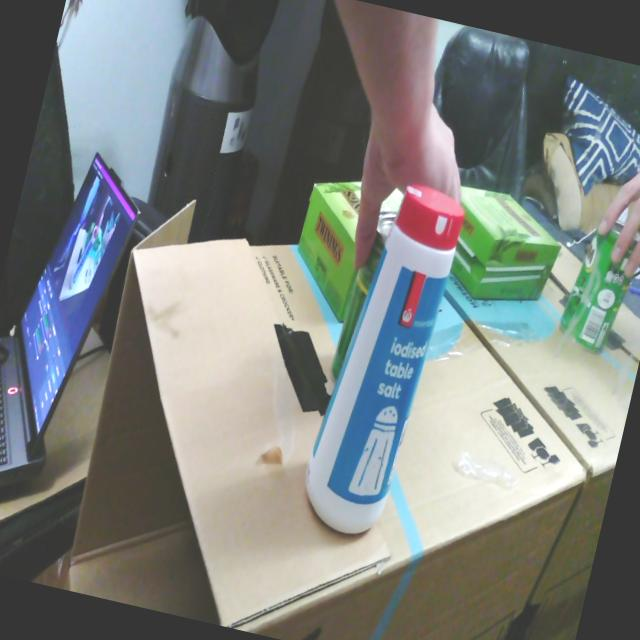nestle_milo_tin: (329, 211, 397, 386)
twinings_greentea_box: (298, 181, 361, 321), (380, 188, 403, 212)
woolworths_salt_bottle: (306, 184, 464, 533)
